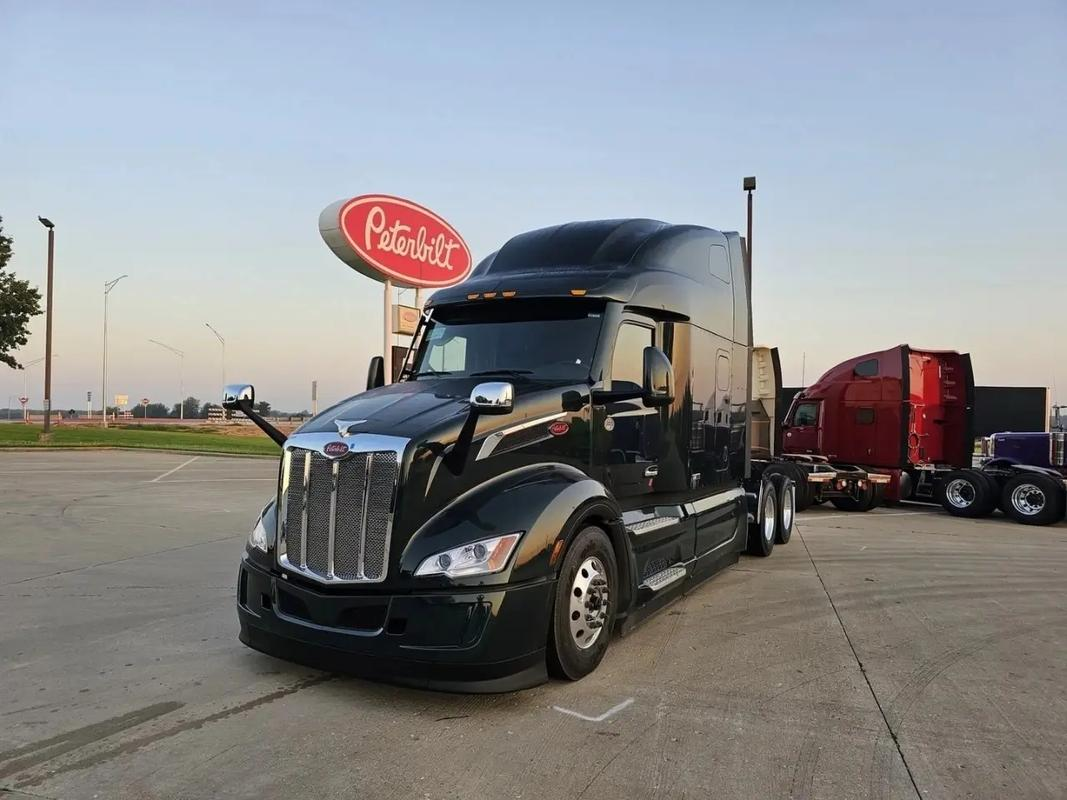卡车: (223, 176, 810, 692)
